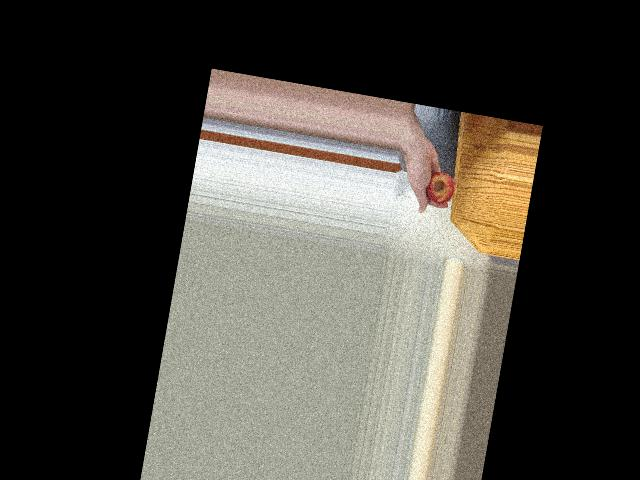apple: (421, 164, 458, 206)
